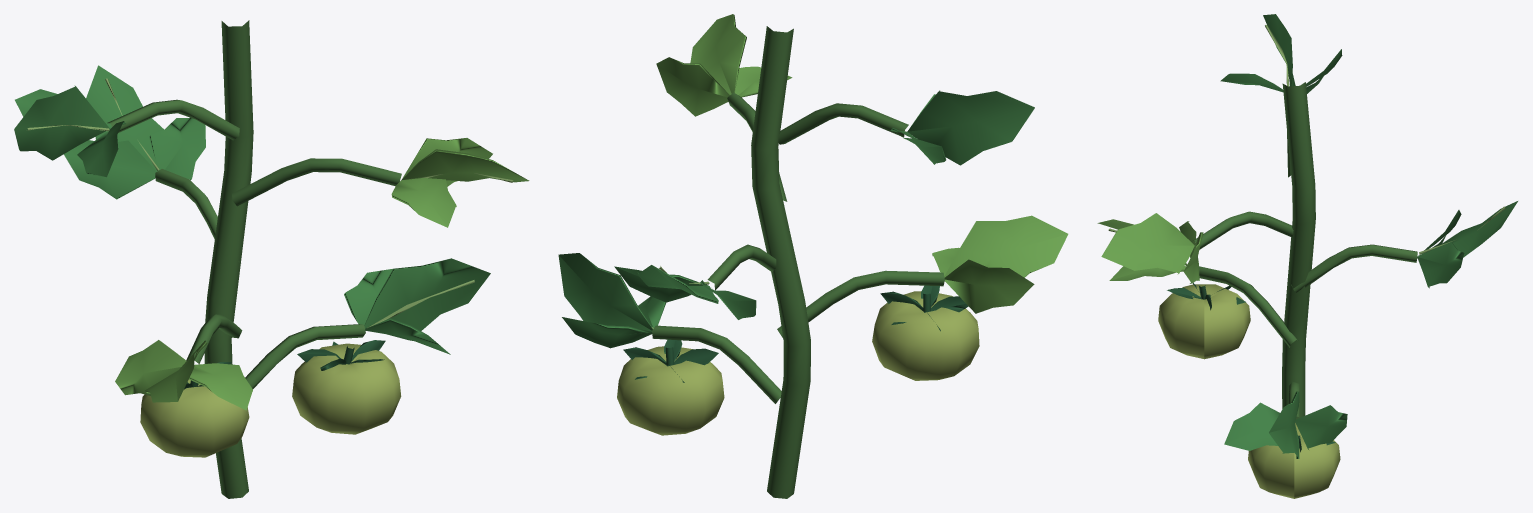
Rendered from tomate_2_lod.glb.
The picture shows the model from 3 angles, left to right: view 1: azimuth 30°, elevation 25°; view 2: azimuth 150°, elevation 25°; view 3: azimuth 270°, elevation 25°; orthographic projection. The views are drawn at different scales.
Parts seen in each view (by area): view 1: tomate_2_mata_0; view 2: tomate_2_mata_0; view 3: tomate_2_mata_0.
Part boxes in pixels (x1,y1,x2,y2): tomate_2_mata_0: (14,20,529,498); tomate_2_mata_0: (558,14,1068,498); tomate_2_mata_0: (1097,14,1517,498).
Size of the model in its own units: 0.6812 by 0.6435 by 0.6174.
